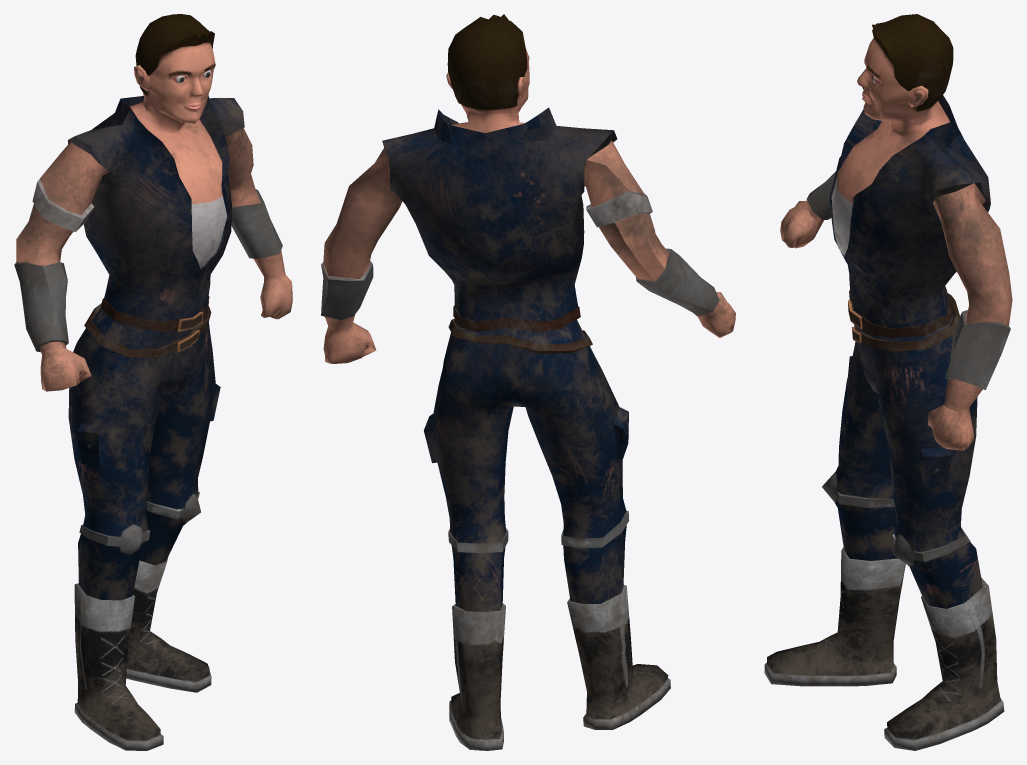
Rendered from Anim_abrir_puerta_ok_jugador.0033.obj.
The picture shows the model from 3 angles, left to right: view 1: azimuth 30°, elevation 25°; view 2: azimuth 150°, elevation 25°; view 3: azimuth 270°, elevation 25°; orthographic projection. The views are drawn at different scales.
Visible parts, largest first — view 1: polySurface1; view 2: polySurface1; view 3: polySurface1.
Part boxes in pixels (left/top/right/bottom): polySurface1: left=14, top=14, right=292, bottom=750; polySurface1: left=321, top=14, right=735, bottom=750; polySurface1: left=764, top=14, right=1012, bottom=750.
Bounding box in the file's own units: 4.84 × 9.61 × 3.03.
